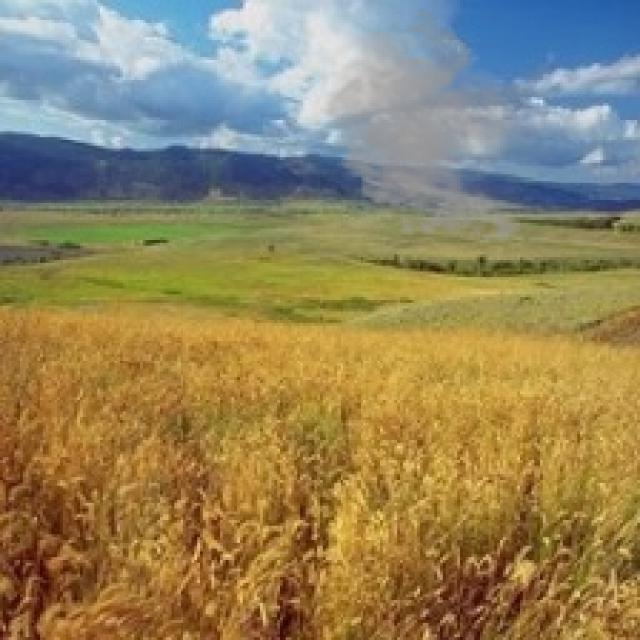smoke: (312, 5, 557, 248)
